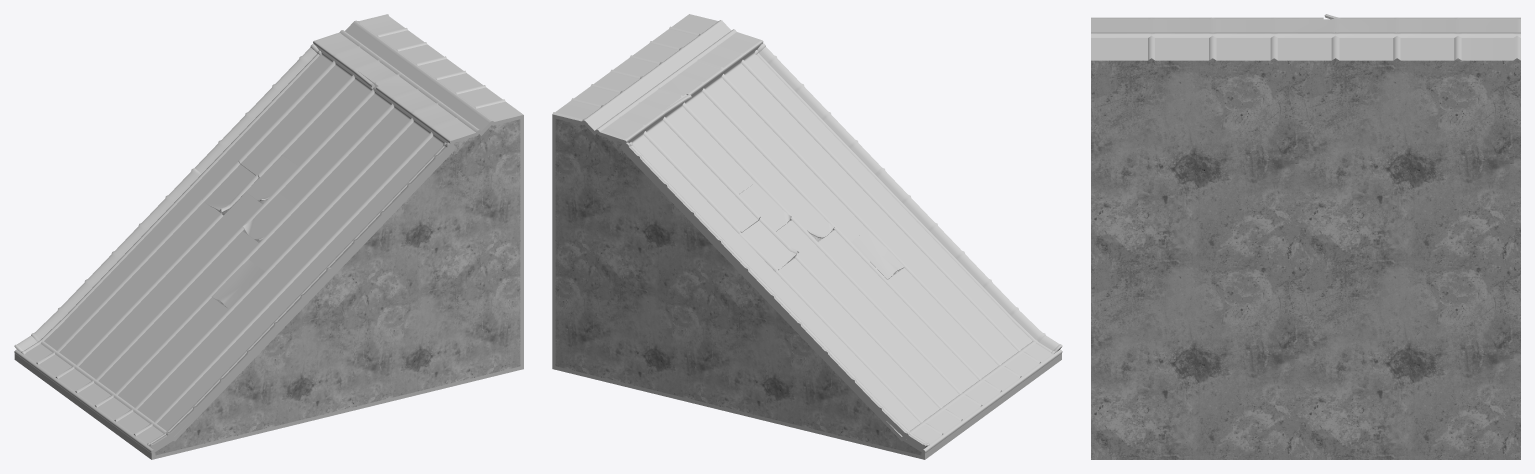
The model's file is SM_Roof_02a.fbx.
3 renders of one model, left to right at view 1: azimuth 30°, elevation 25°; view 2: azimuth 150°, elevation 25°; view 3: azimuth 270°, elevation 25°, orthographic. The views are drawn at different scales.
Parts seen in each view (by area): view 1: SM_Roof_02a_LOD0; view 2: SM_Roof_02a_LOD0; view 3: SM_Roof_02a_LOD0.
Boxes of the visible parts, x1=… form: SM_Roof_02a_LOD0: x1=14, y1=14, x2=523, y2=459; SM_Roof_02a_LOD0: x1=552, y1=14, x2=1062, y2=459; SM_Roof_02a_LOD0: x1=1091, y1=14, x2=1520, y2=459.
Bounding box in the file's own units: 1258 × 800 × 825.
